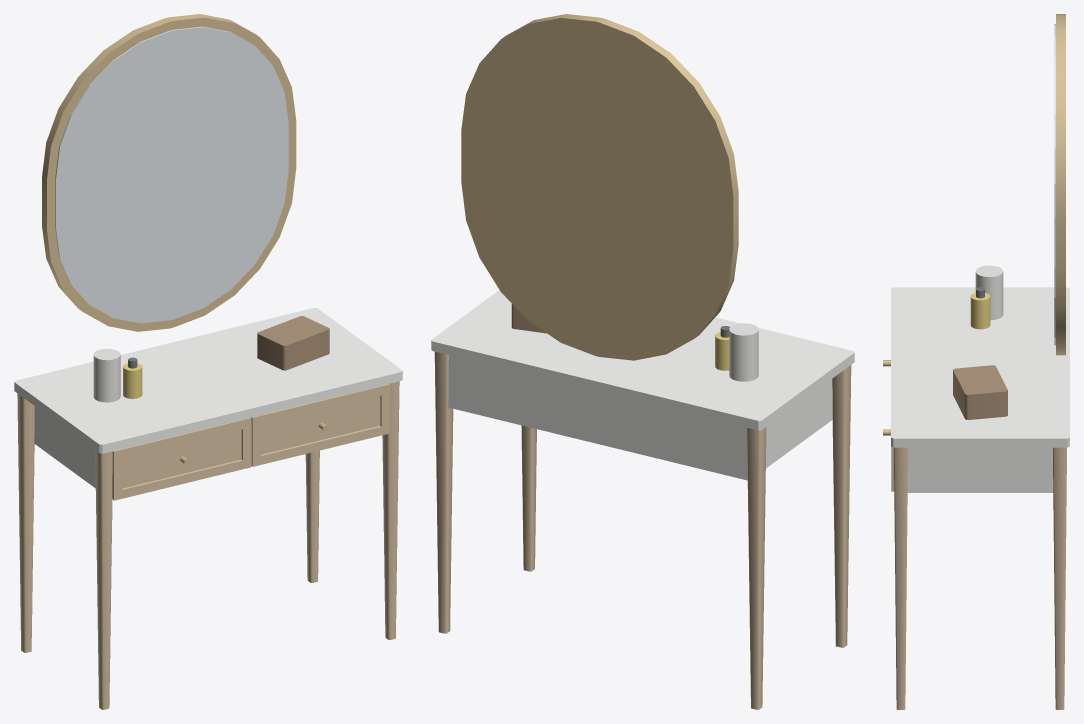
3 views of the same model, side by side, from view 1: azimuth 30°, elevation 25°; view 2: azimuth 150°, elevation 25°; view 3: azimuth 270°, elevation 25° (orthographic). The views are drawn at different scales.
Visible parts, largest first — view 1: Bàn trang điểm Dài=900; Sâu=450; view 2: Bàn trang điểm Dài=900; Sâu=450; view 3: Bàn trang điểm Dài=900; Sâu=450.
Part boxes in pixels (x1,y1,x2,y2): Bàn trang điểm Dài=900; Sâu=450: (14, 14, 402, 709); Bàn trang điểm Dài=900; Sâu=450: (431, 14, 854, 709); Bàn trang điểm Dài=900; Sâu=450: (883, 14, 1069, 709).
Size of the model in its own units: 0.9 by 1.69 by 0.47.
